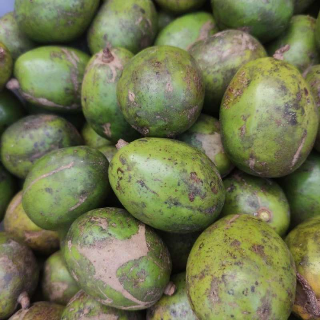coc: (219, 56, 319, 177), (64, 207, 172, 313), (108, 136, 225, 233), (118, 45, 205, 137)
